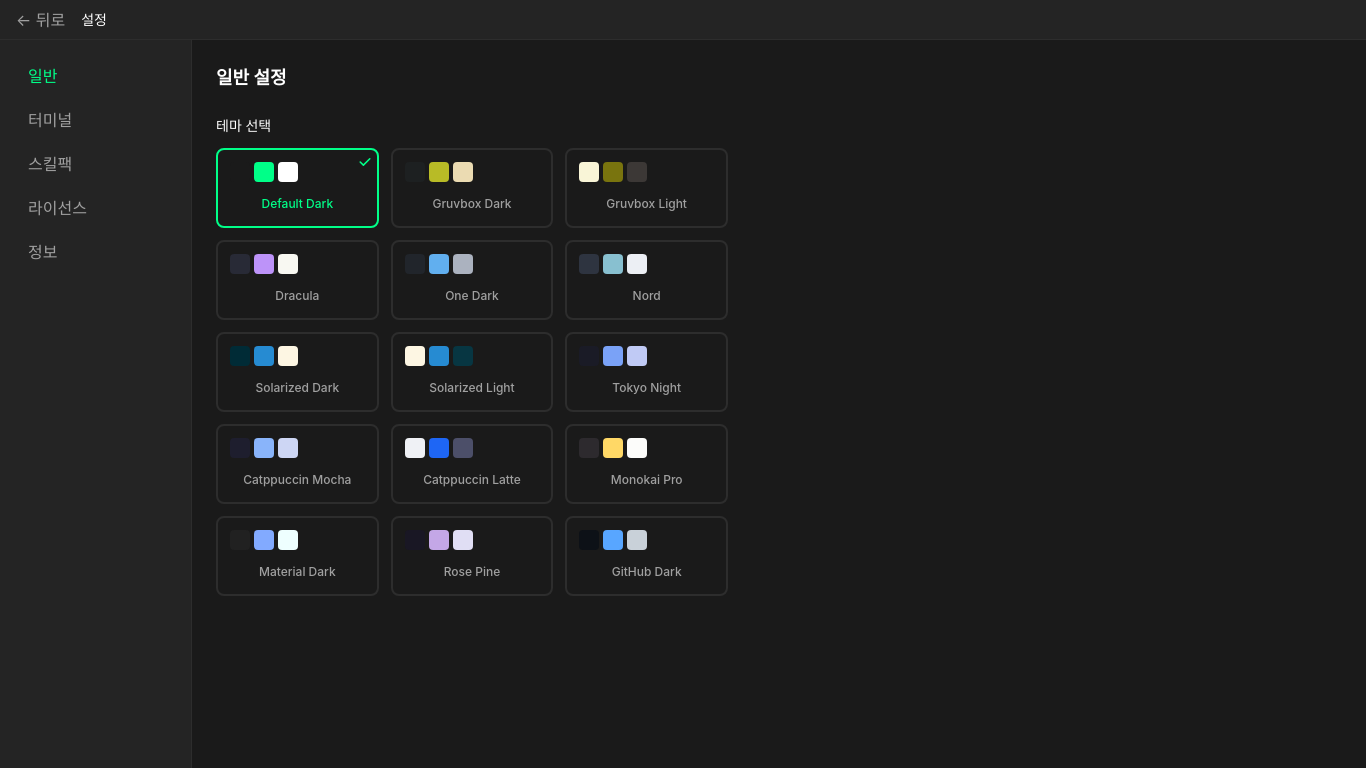
Test case: SettingsPage › 6. 라이선스 (License) › should display active license info
The width and height of the screenshot is (1366, 768).
Step 1. Click the button "라이선스" → (96, 208), box [16,188,175,228]
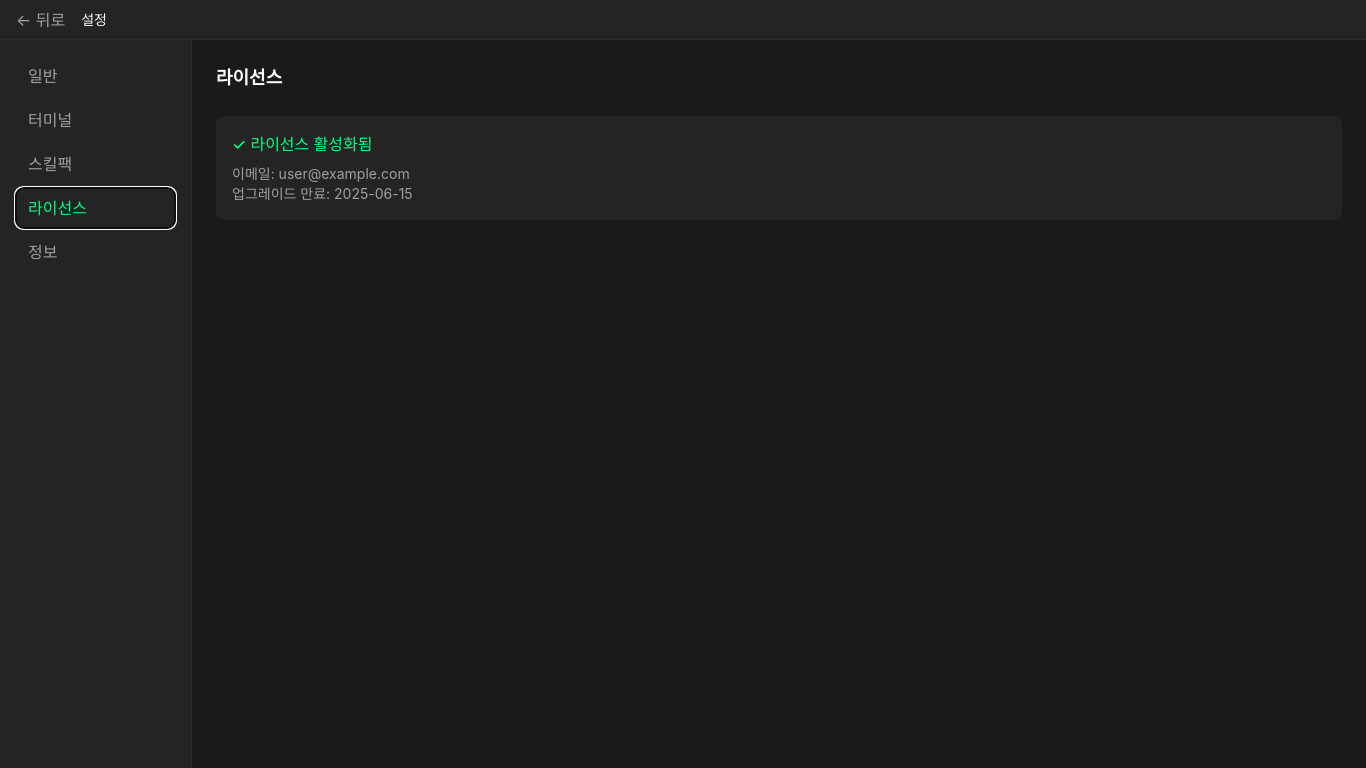
Check: the text "✓ 라이선스 활성화됨" is shown, box [232,134,372,154]
Check: the text "이메일: user@example.com" is shown, box [232,165,410,182]
Check: the text "업그레이드 만료: 2025-06-15" is shown, box [232,185,413,202]
